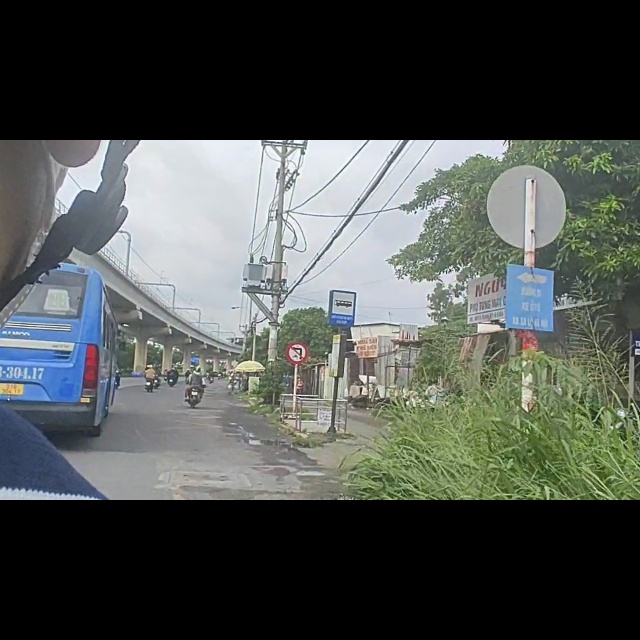bien_cam: (327, 264, 358, 333), (286, 357, 310, 399)
